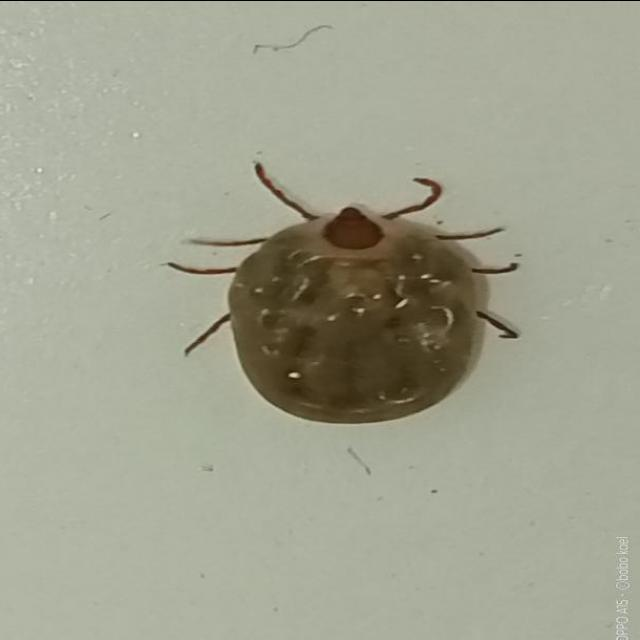Rhipicephalus Sanguineus-F-Fed: (164, 163, 524, 424)
